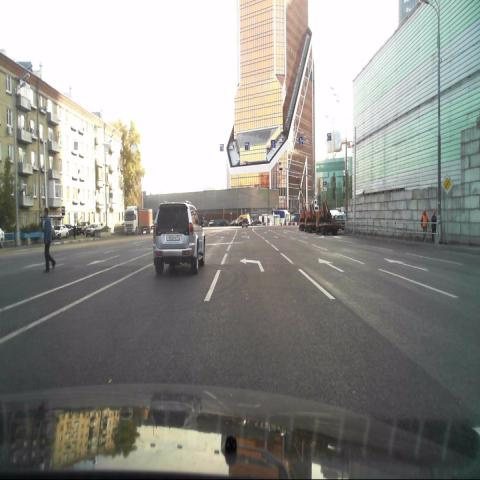2_2: (440, 173, 454, 197)
